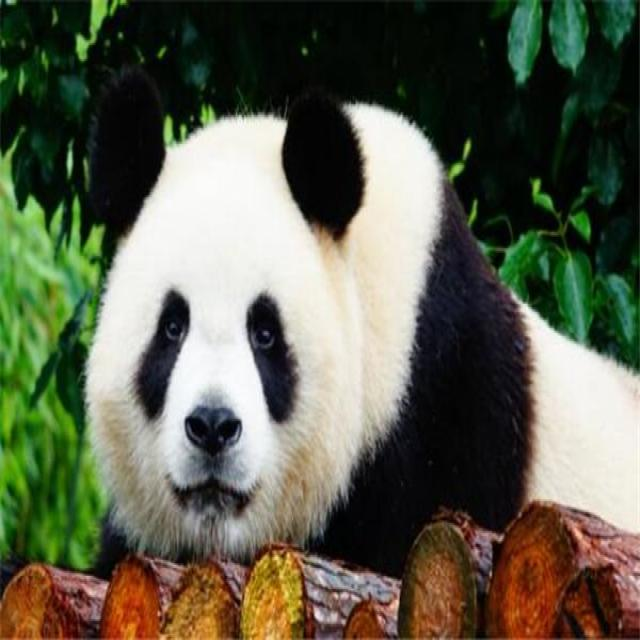panda: (79, 63, 640, 581)
